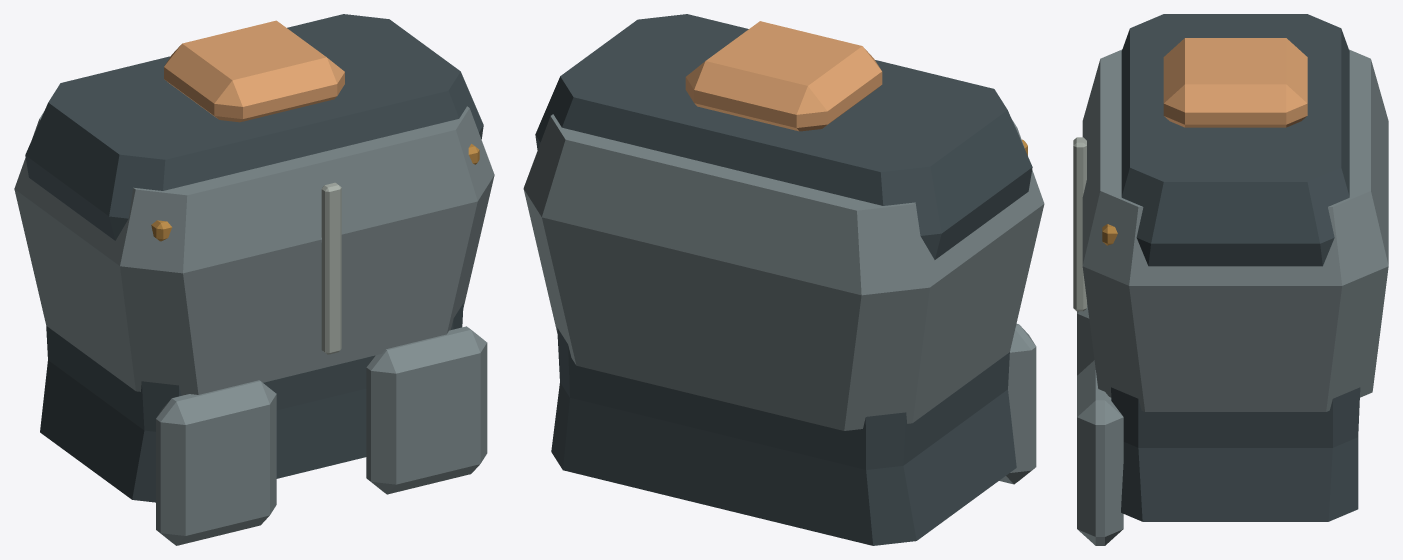
The model's file is SM_NPC_Torso_02_Armor.glb.
The picture shows the model from 3 angles, left to right: view 1: azimuth 30°, elevation 25°; view 2: azimuth 150°, elevation 25°; view 3: azimuth 270°, elevation 25°; orthographic projection. The views are drawn at different scales.
Visible parts, largest first — view 1: SM_NPC_Torso_02_Armor; view 2: SM_NPC_Torso_02_Armor; view 3: SM_NPC_Torso_02_Armor.
Boxes of the visible parts, bbox=[...] form: SM_NPC_Torso_02_Armor: bbox=[14, 14, 494, 545]; SM_NPC_Torso_02_Armor: bbox=[523, 14, 1044, 545]; SM_NPC_Torso_02_Armor: bbox=[1073, 14, 1388, 545].
Bounding box in the file's own units: 0.516 × 0.538 × 0.373.
